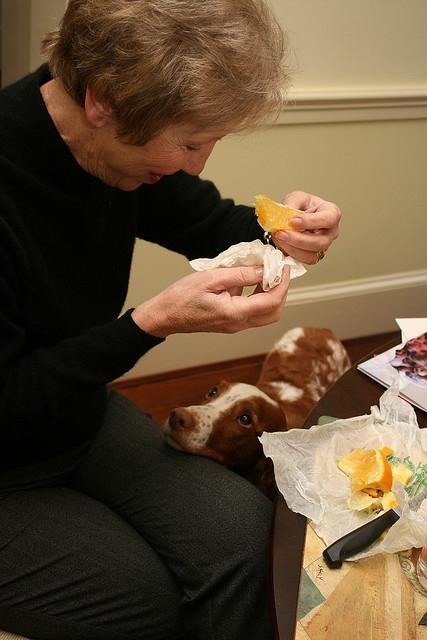orange: (337, 448, 394, 492), (252, 195, 307, 232), (346, 490, 382, 514), (390, 462, 413, 487), (378, 446, 394, 456), (379, 527, 391, 540), (390, 500, 400, 509)
